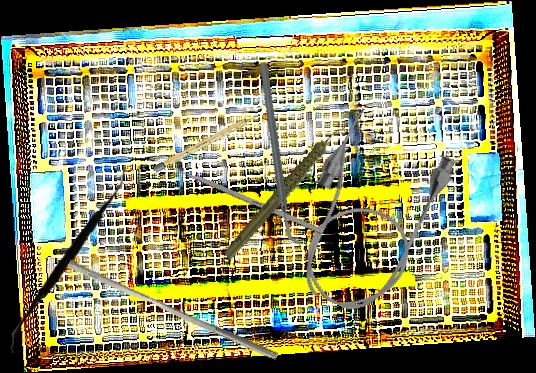Cannula: (273, 102, 463, 327)
Chopper: (215, 61, 345, 248)
Handpiece: (202, 123, 370, 262)
Pusher: (63, 258, 283, 362), (158, 159, 324, 235)
Scalpel Handle: (153, 112, 259, 173)
Spatula Surgical: (11, 163, 126, 357)
